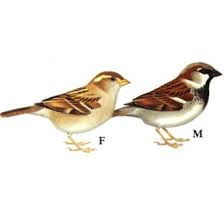hsparrow: (1, 69, 132, 158), (112, 56, 224, 155)
